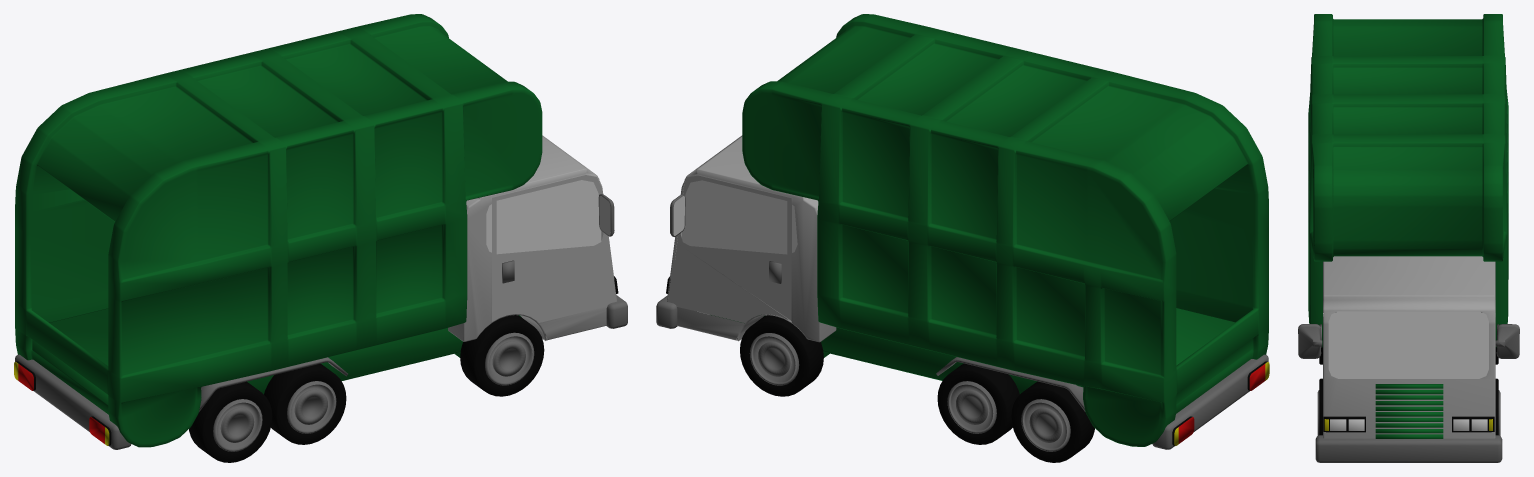
File: garbagetruck.fbx
3 renders of one model, left to right at view 1: azimuth 30°, elevation 25°; view 2: azimuth 150°, elevation 25°; view 3: azimuth 270°, elevation 25°, orthographic. The views are drawn at different scales.
Visible parts, largest first — view 1: Garbagetruck; view 2: Garbagetruck; view 3: Garbagetruck.
Part boxes in pixels (bbox=[...]): Garbagetruck: bbox=[14, 14, 627, 462]; Garbagetruck: bbox=[656, 14, 1269, 462]; Garbagetruck: bbox=[1298, 14, 1519, 462].
Bounding box in the file's own units: 1483 × 847 × 598.
1 material, 1 textured.
